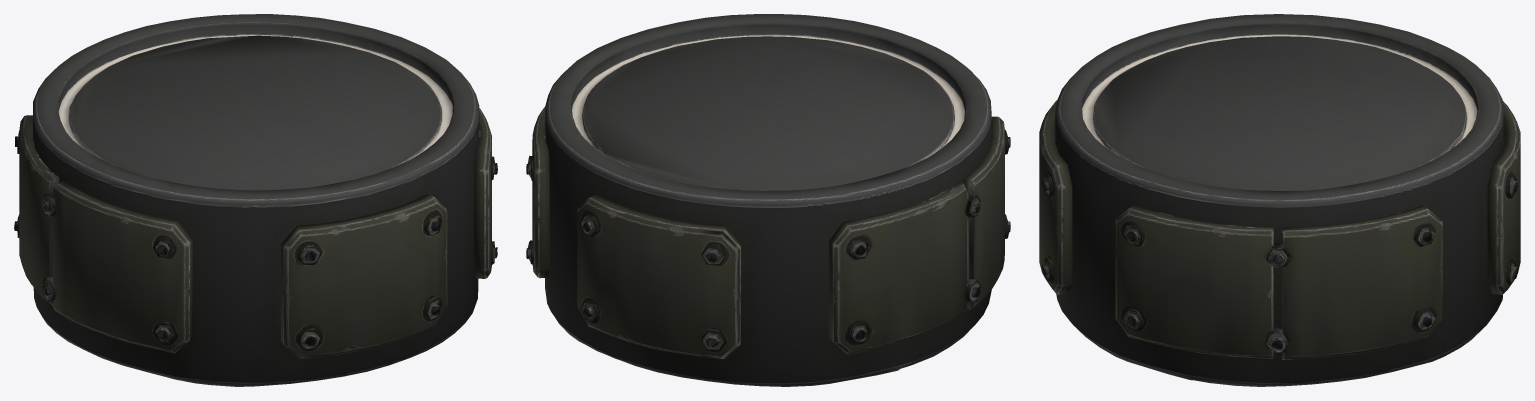
Rendered from original_glb.glb.
3 renders of one model, left to right at view 1: azimuth 30°, elevation 25°; view 2: azimuth 150°, elevation 25°; view 3: azimuth 270°, elevation 25°, orthographic.
Visible parts, largest first — view 1: Tactical Armored Display Pedestal; view 2: Tactical Armored Display Pedestal; view 3: Tactical Armored Display Pedestal.
Part boxes in pixels (<box>): Tactical Armored Display Pedestal: <box>14,14,497,386</box>; Tactical Armored Display Pedestal: <box>526,14,1010,386</box>; Tactical Armored Display Pedestal: <box>1039,14,1520,386</box>.
Size of the model in its own units: 0.998 by 0.4277 by 0.9902.
1 material, 1 textured.
